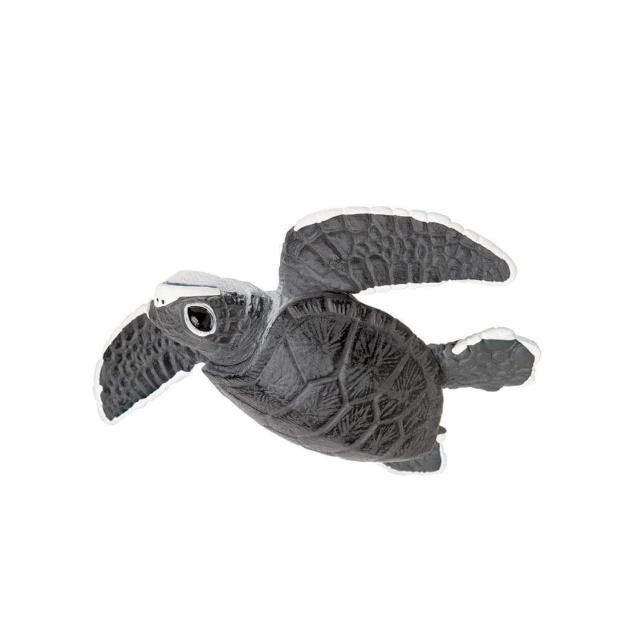turtle: (98, 209, 543, 477)
